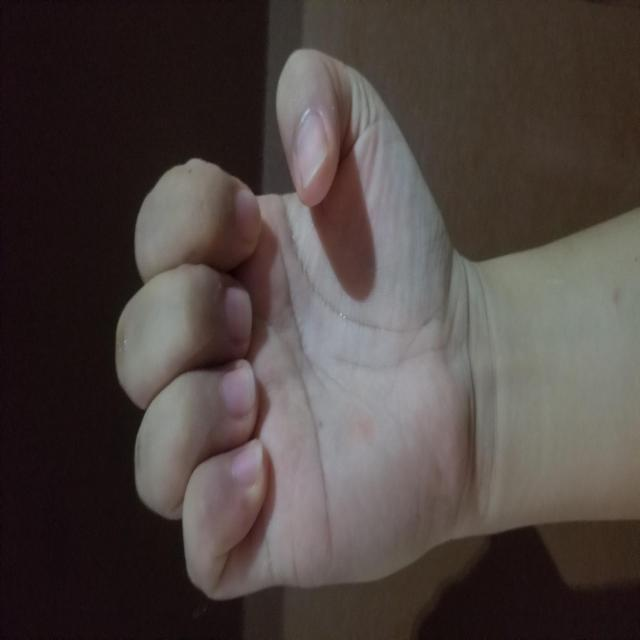E: (39, 115, 595, 468)
